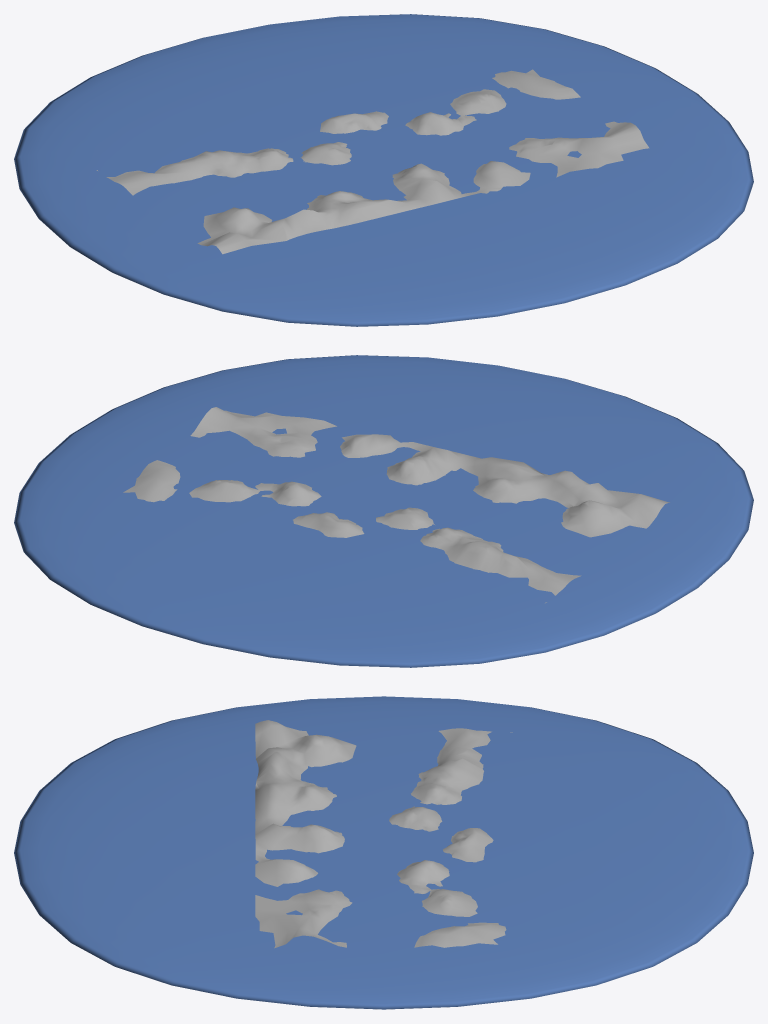
File: terrain_sea.fbx
3 renders of one model, top to bottom at view 1: azimuth 30°, elevation 25°; view 2: azimuth 150°, elevation 25°; view 3: azimuth 270°, elevation 25°, orthographic. The views are drawn at different scales.
Visible parts, largest first — view 1: water, terrain; view 2: water, terrain; view 3: water, terrain.
Boxes of the visible parts, x1,y1,x2,y2 form: water: (14, 14, 753, 326); terrain: (96, 69, 649, 254); water: (14, 355, 753, 667); terrain: (123, 407, 669, 603); water: (14, 696, 753, 1009); terrain: (255, 720, 512, 948).
Size of the model in its own units: 206 by 14.69 by 206.
